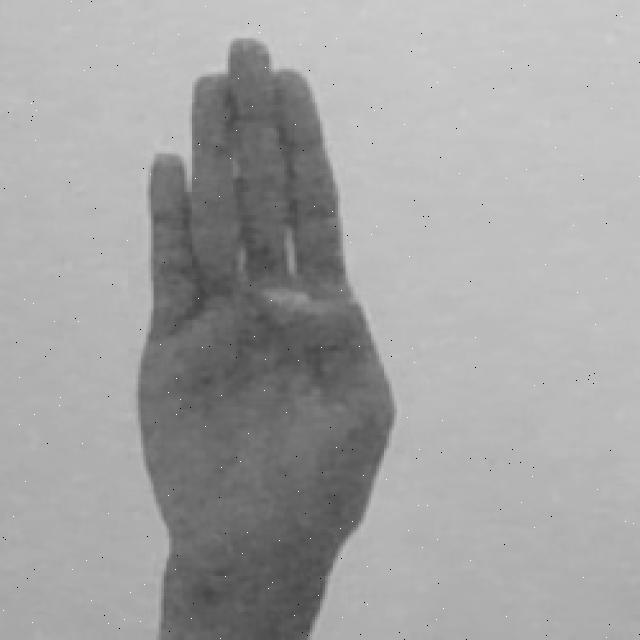B: (137, 33, 396, 640)
